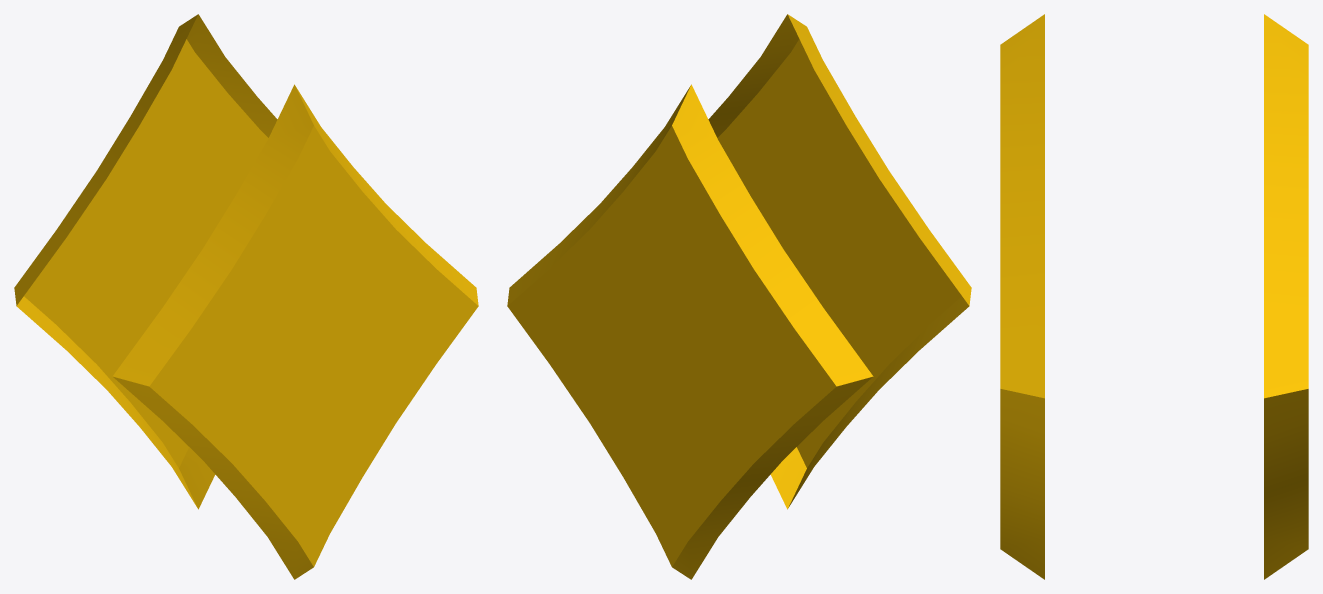
The model's file is Diamonds.fbx.
3 renders of one model, left to right at view 1: azimuth 30°, elevation 25°; view 2: azimuth 150°, elevation 25°; view 3: azimuth 270°, elevation 25°, orthographic. The views are drawn at different scales.
Visible parts, largest first — view 1: Diamonds; view 2: Diamonds; view 3: Diamonds.
Boxes of the visible parts, left/top/right/bottom form: Diamonds: left=14, top=14, right=478, bottom=579; Diamonds: left=507, top=14, right=971, bottom=579; Diamonds: left=1000, top=14, right=1308, bottom=579.
Bounding box in the file's own units: 71.46 × 92.99 × 45.92.
